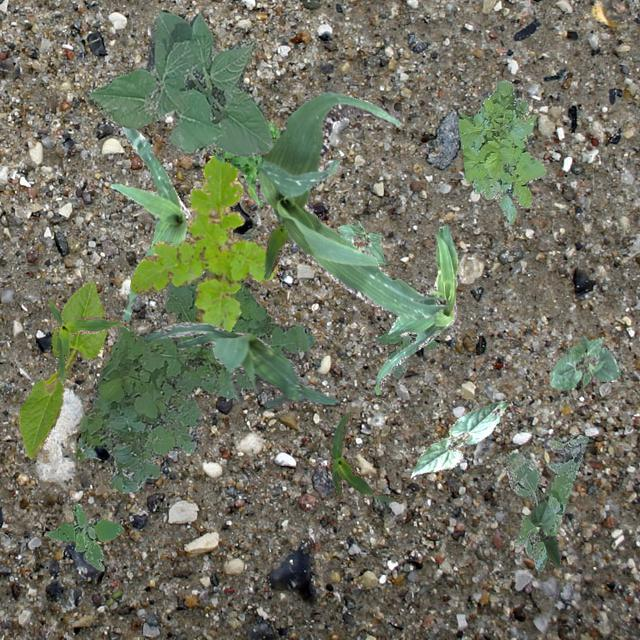crop: (253, 90, 448, 318), (86, 8, 272, 156), (143, 321, 340, 406), (110, 125, 192, 322), (18, 280, 106, 458), (373, 224, 458, 396), (408, 398, 508, 478), (46, 297, 126, 383), (328, 410, 402, 502), (548, 334, 620, 388), (336, 220, 386, 264), (528, 501, 560, 566), (262, 220, 292, 278)
weed: (74, 228, 314, 492), (130, 154, 276, 332), (458, 80, 546, 224), (504, 434, 588, 570), (204, 120, 280, 204), (44, 502, 122, 570), (373, 316, 438, 378)
